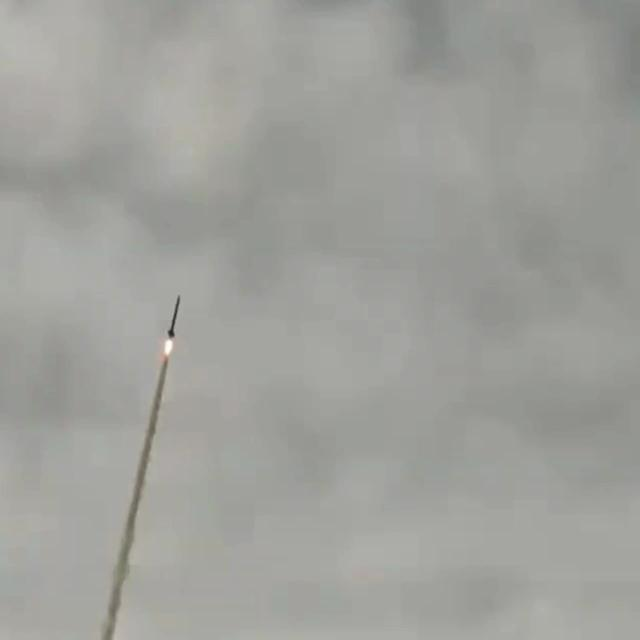smoke_trail_with_rocket: (97, 297, 181, 640)
